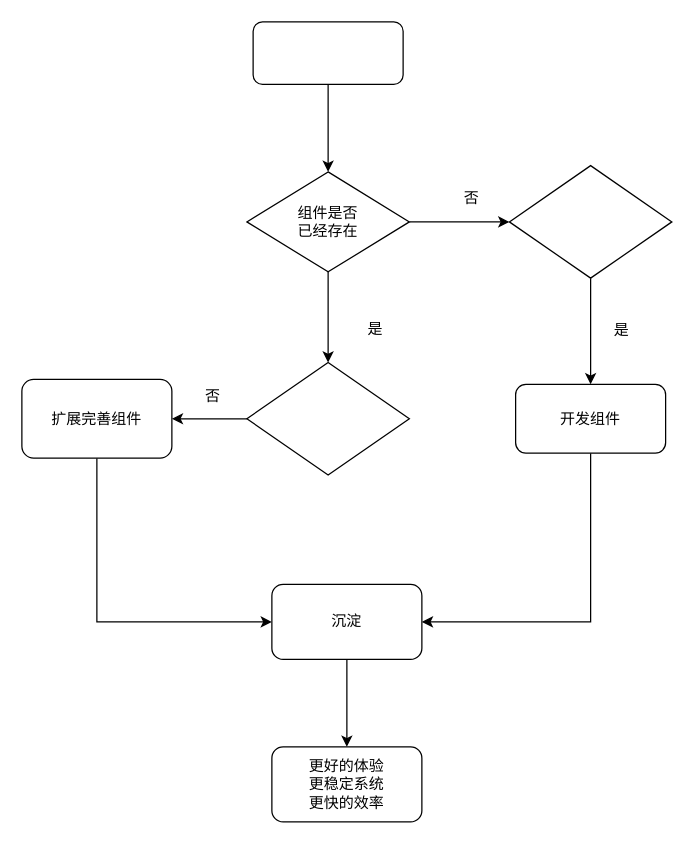
The diagram is 694 pixels wide and 844 high, and some of its shapes have lost their labels. The centre of each missing label's shape, as x and y in pixels:
组件是否 可作为沉淀: (x=590, y=221)
组件是否 可直接复用: (x=327, y=418)
需求评审: (x=327, y=52)
